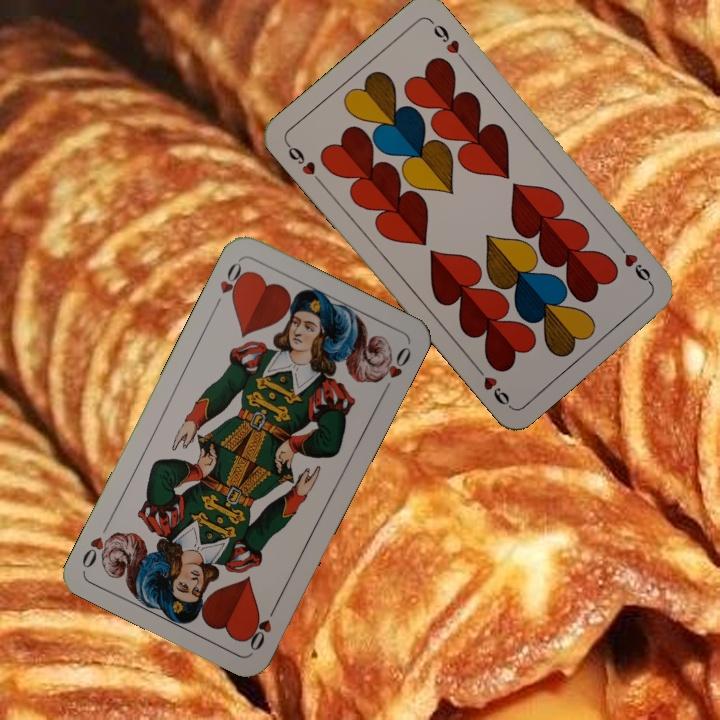H9: (282, 139, 325, 188), (613, 239, 655, 288)
HO: (210, 256, 250, 312), (242, 600, 280, 654)
